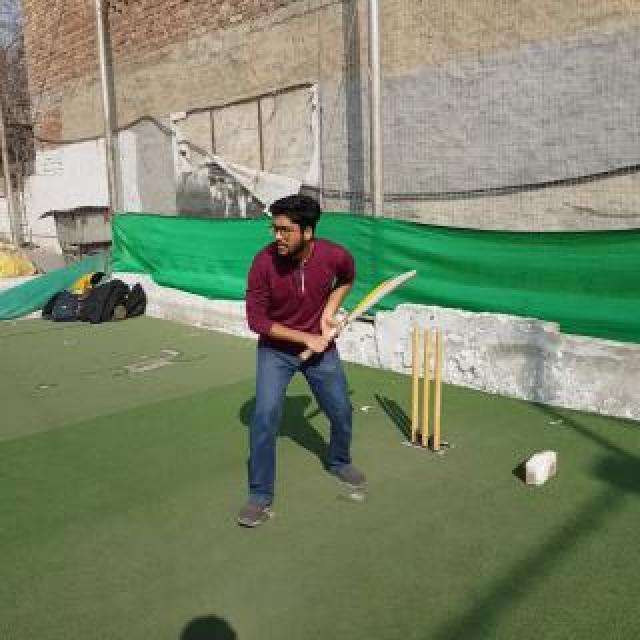bat: (298, 270, 418, 362)
